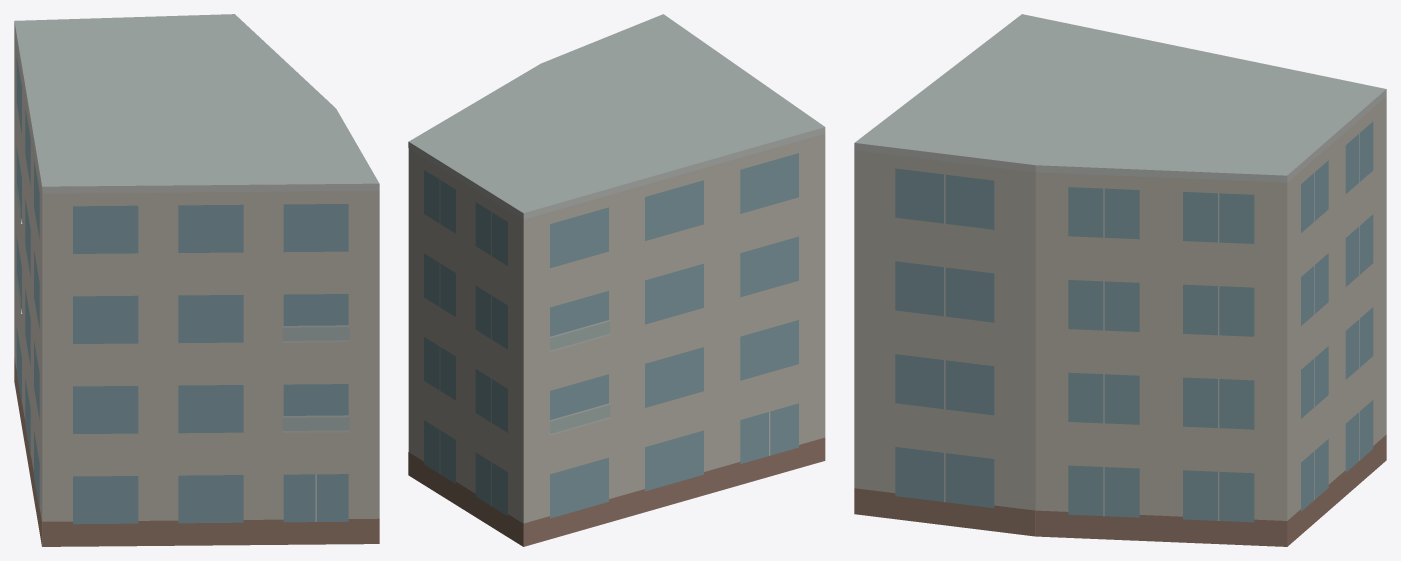
File: survey-upis-33023806.glb
3 renders of one model, left to right at view 1: azimuth 30°, elevation 25°; view 2: azimuth 150°, elevation 25°; view 3: azimuth 270°, elevation 25°, orthographic. The views are drawn at different scales.
Parts seen in each view (by area): view 1: survey-upis-33023806.tmp; view 2: survey-upis-33023806.tmp; view 3: survey-upis-33023806.tmp.
Part boxes in pixels (x1,y1,x2,y2): survey-upis-33023806.tmp: (14,14,379,546); survey-upis-33023806.tmp: (408,14,825,546); survey-upis-33023806.tmp: (854,14,1386,546).
Size of the model in its own units: 11.96 by 12.8 by 16.64.
